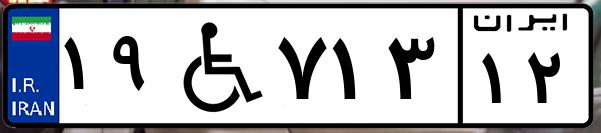1: (330, 28, 385, 110), (57, 26, 110, 100), (475, 38, 525, 113)
2: (525, 38, 570, 115)
3: (385, 28, 445, 110)
7: (270, 28, 330, 110)
9: (110, 28, 158, 98)
ژ (معلولین و جانبازان): (158, 12, 270, 120)
